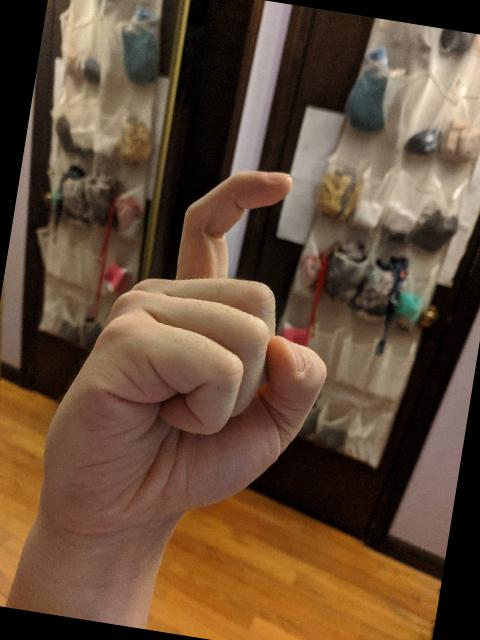X: (28, 134, 366, 548)
